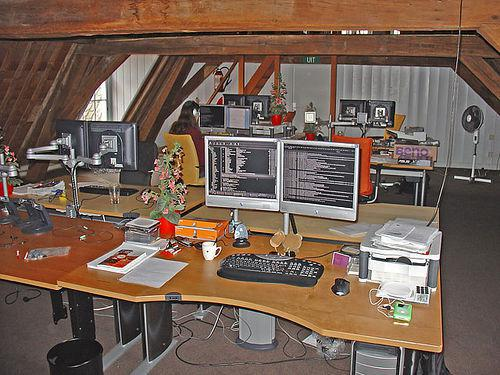tv: (279, 138, 360, 223), (202, 134, 283, 214), (85, 120, 141, 172), (54, 119, 86, 167)
